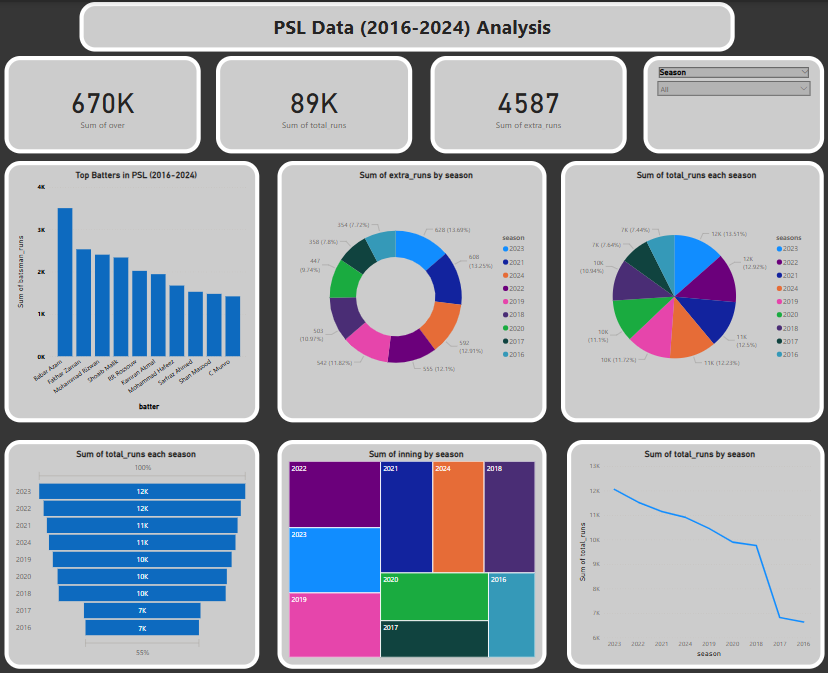

What the dashboard file says about the page in this screenshot:
{"tool":"powerbi","page":{"name":"Page 15","canvas":[1600,1300],"ordinal":0},"visuals":[{"type":"treemap","fields":{"Group":["Match_Winners.season"],"Values":["Match_Winners.inning"]},"box":[540,842.5,517.5,440],"z":0},{"type":"funnel","title":"Sum of total_runs each season","fields":{"Category":["Match_Winners.season"],"Y":["Match_Winners.total_runs"]},"box":[15,842.5,490,440],"z":2000},{"type":"card","fields":{"Values":["Psl_Complete_Dataset(2016-2024).total_runs"]},"box":[422.5,102.5,377.5,187.5],"z":3000},{"type":"card","fields":{"Values":["Psl_Complete_Dataset(2016-2024).extra_runs"]},"box":[832.5,102.5,377.5,187.5],"z":4000},{"type":"card","fields":{"Values":["Psl_Complete_Dataset(2016-2024).over"]},"box":[15,105,377.5,187.5],"z":5000},{"type":"donutChart","fields":{"Y":["Psl_Complete_Dataset(2016-2024).extra_runs"],"Category":["Psl_Complete_Dataset(2016-2024).season"]},"box":[540,305,517.5,502.5],"z":6000},{"type":"pieChart","title":"Sum of total_runs each season","fields":{"Category":["Psl_Complete_Dataset(2016-2024).season"],"Y":["Psl_Complete_Dataset(2016-2024).total_runs"]},"box":[1085,305,505,502.5],"z":7000},{"type":"clusteredColumnChart","title":"Top Batters in PSL (2016-2024)","fields":{"Y":["Psl_Complete_Dataset(2016-2024).batsman_runs"],"Category":["Psl_Complete_Dataset(2016-2024).batter"]},"box":[15,305,490,502.5],"z":8000},{"type":"textbox","box":[157.5,0,1260,95],"z":9000},{"type":"slicer","fields":{"Values":["Match_Winners.season"]},"box":[1242.5,102.5,347.5,187.5],"z":10000},{"type":"lineChart","fields":{"Category":["Match_Winners.season"],"Y":["Match_Winners.total_runs"]},"box":[1095,842.5,495,440],"z":11000}]}

Visuals, with their boxes in screenshot pixels (x1, y1, x2, y2), scaled from the page's 1600x1300 canvas onto the 828x673 screenshot:
treemap - Match_Winners.season x Match_Winners.inning: rect(279, 436, 547, 664)
"Sum of total_runs each season" funnel: rect(8, 436, 261, 664)
card - Psl_Complete_Dataset(2016-2024).total_runs: rect(219, 53, 414, 150)
card - Psl_Complete_Dataset(2016-2024).extra_runs: rect(431, 53, 626, 150)
card - Psl_Complete_Dataset(2016-2024).over: rect(8, 54, 203, 151)
donutChart - Psl_Complete_Dataset(2016-2024).extra_runs x Psl_Complete_Dataset(2016-2024).season: rect(279, 158, 547, 418)
"Sum of total_runs each season" pieChart: rect(561, 158, 823, 418)
"Top Batters in PSL (2016-2024)" clusteredColumnChart: rect(8, 158, 261, 418)
textbox: rect(82, 0, 734, 49)
slicer - Match_Winners.season: rect(643, 53, 823, 150)
lineChart - Match_Winners.season x Match_Winners.total_runs: rect(567, 436, 823, 664)
